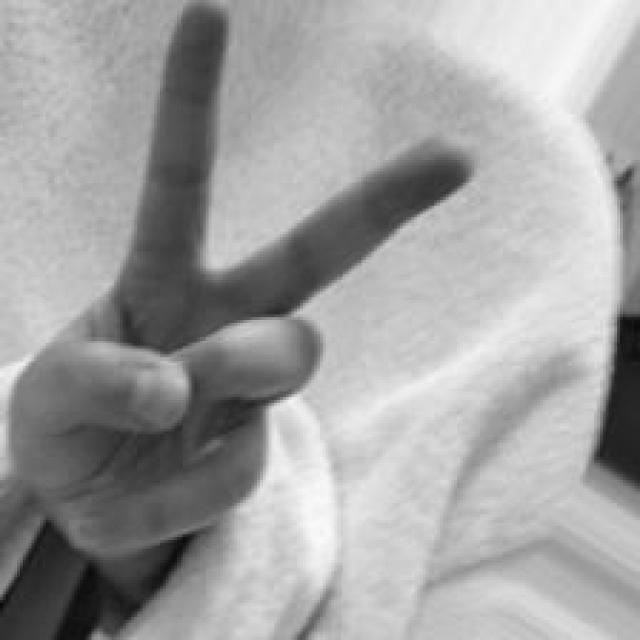V: (11, 0, 474, 557)
